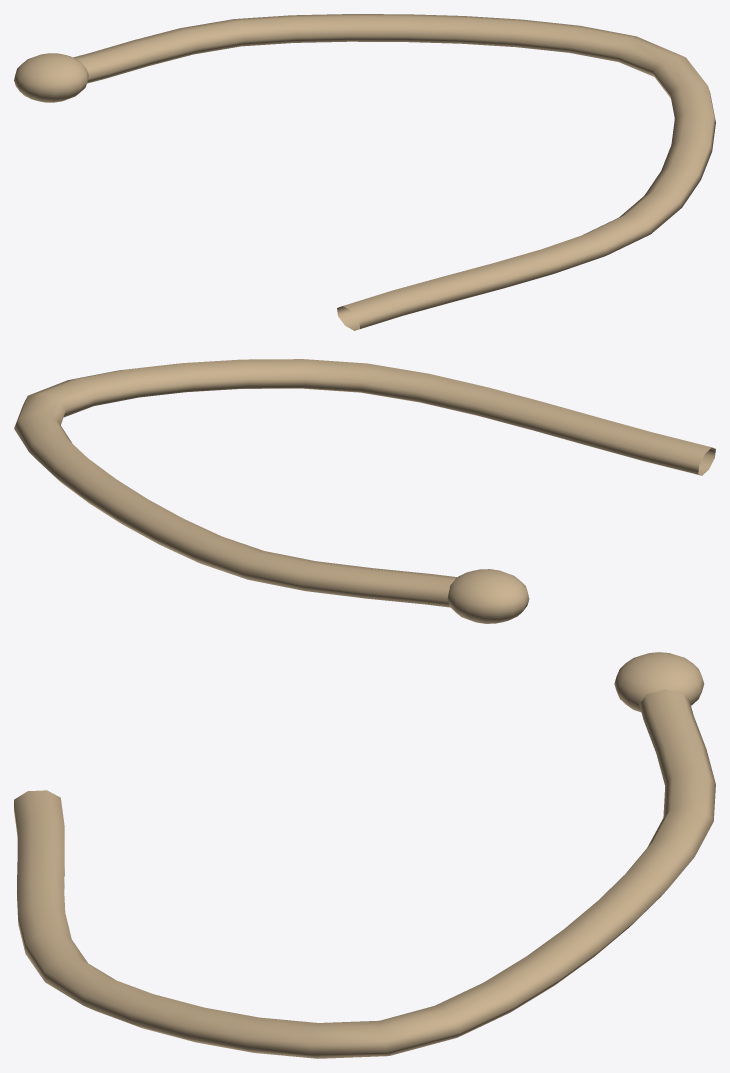
The model's file is left_rib_6.glb.
3 renders of one model, top to bottom at view 1: azimuth 30°, elevation 25°; view 2: azimuth 150°, elevation 25°; view 3: azimuth 270°, elevation 25°, orthographic. The views are drawn at different scales.
Visible parts, largest first — view 1: left_rib_6:costal-body, left_rib_6:head; view 2: left_rib_6:costal-body, left_rib_6:head; view 3: left_rib_6:costal-body, left_rib_6:head.
Part boxes in pixels (<box>): left_rib_6:costal-body: <box>73,14,715,330</box>; left_rib_6:head: <box>14,53,88,102</box>; left_rib_6:costal-body: <box>14,359,715,607</box>; left_rib_6:head: <box>447,569,529,623</box>; left_rib_6:costal-body: <box>14,689,715,1058</box>; left_rib_6:head: <box>614,652,704,711</box>.
Size of the model in its own units: 0.6784 by 0.117 by 0.585.
